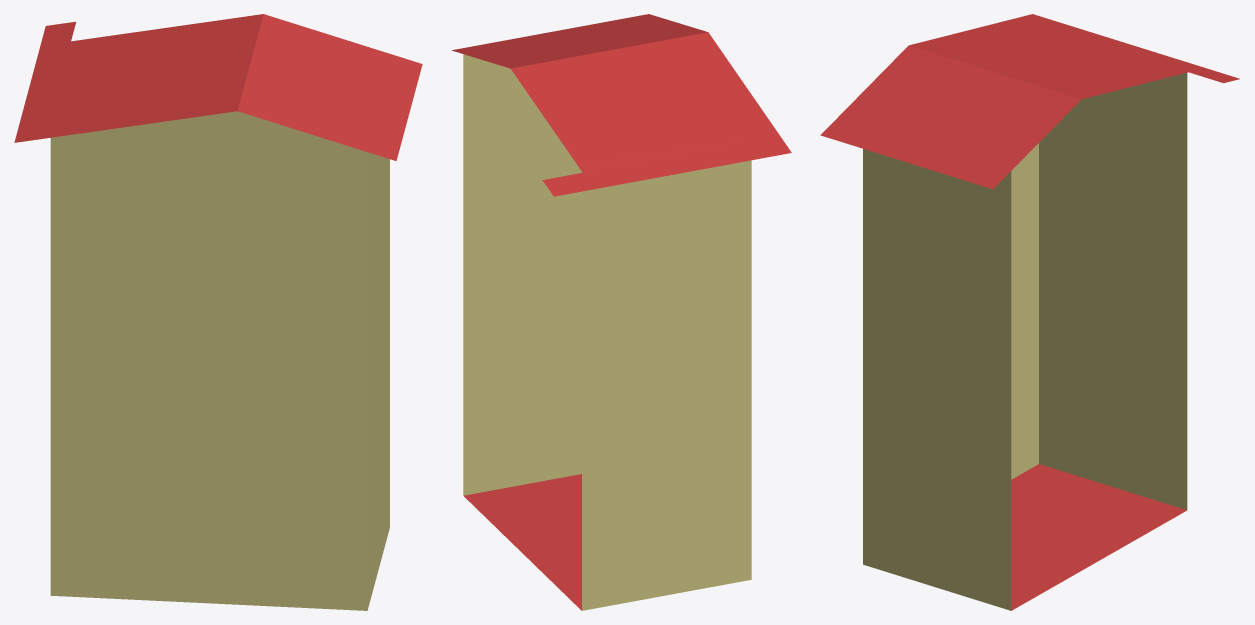
The picture shows the model from 3 angles, left to right: view 1: azimuth 30°, elevation 25°; view 2: azimuth 150°, elevation 25°; view 3: azimuth 270°, elevation 25°; orthographic projection. The views are drawn at different scales.
Parts seen in each view (by area): view 1: group_5, group_3, group_4; view 2: group_5, group_3, group_6, group_4; view 3: group_5, group_3, group_6, group_4.
Part boxes in pixels (left/top/right/bottom): group_5: left=50, top=111, right=389, bottom=610; group_3: left=14, top=14, right=422, bottom=161; group_4: left=15, top=23, right=421, bottom=157; group_5: left=463, top=54, right=751, bottom=610; group_3: left=451, top=14, right=791, bottom=196; group_6: left=463, top=474, right=581, bottom=610; group_4: left=454, top=16, right=789, bottom=194; group_5: left=863, top=73, right=1187, bottom=610; group_3: left=820, top=14, right=1239, bottom=189; group_6: left=1011, top=464, right=1186, bottom=610; group_4: left=822, top=14, right=1237, bottom=188.
Size of the model in its own units: 6.79 by 6.88 by 8.51.
